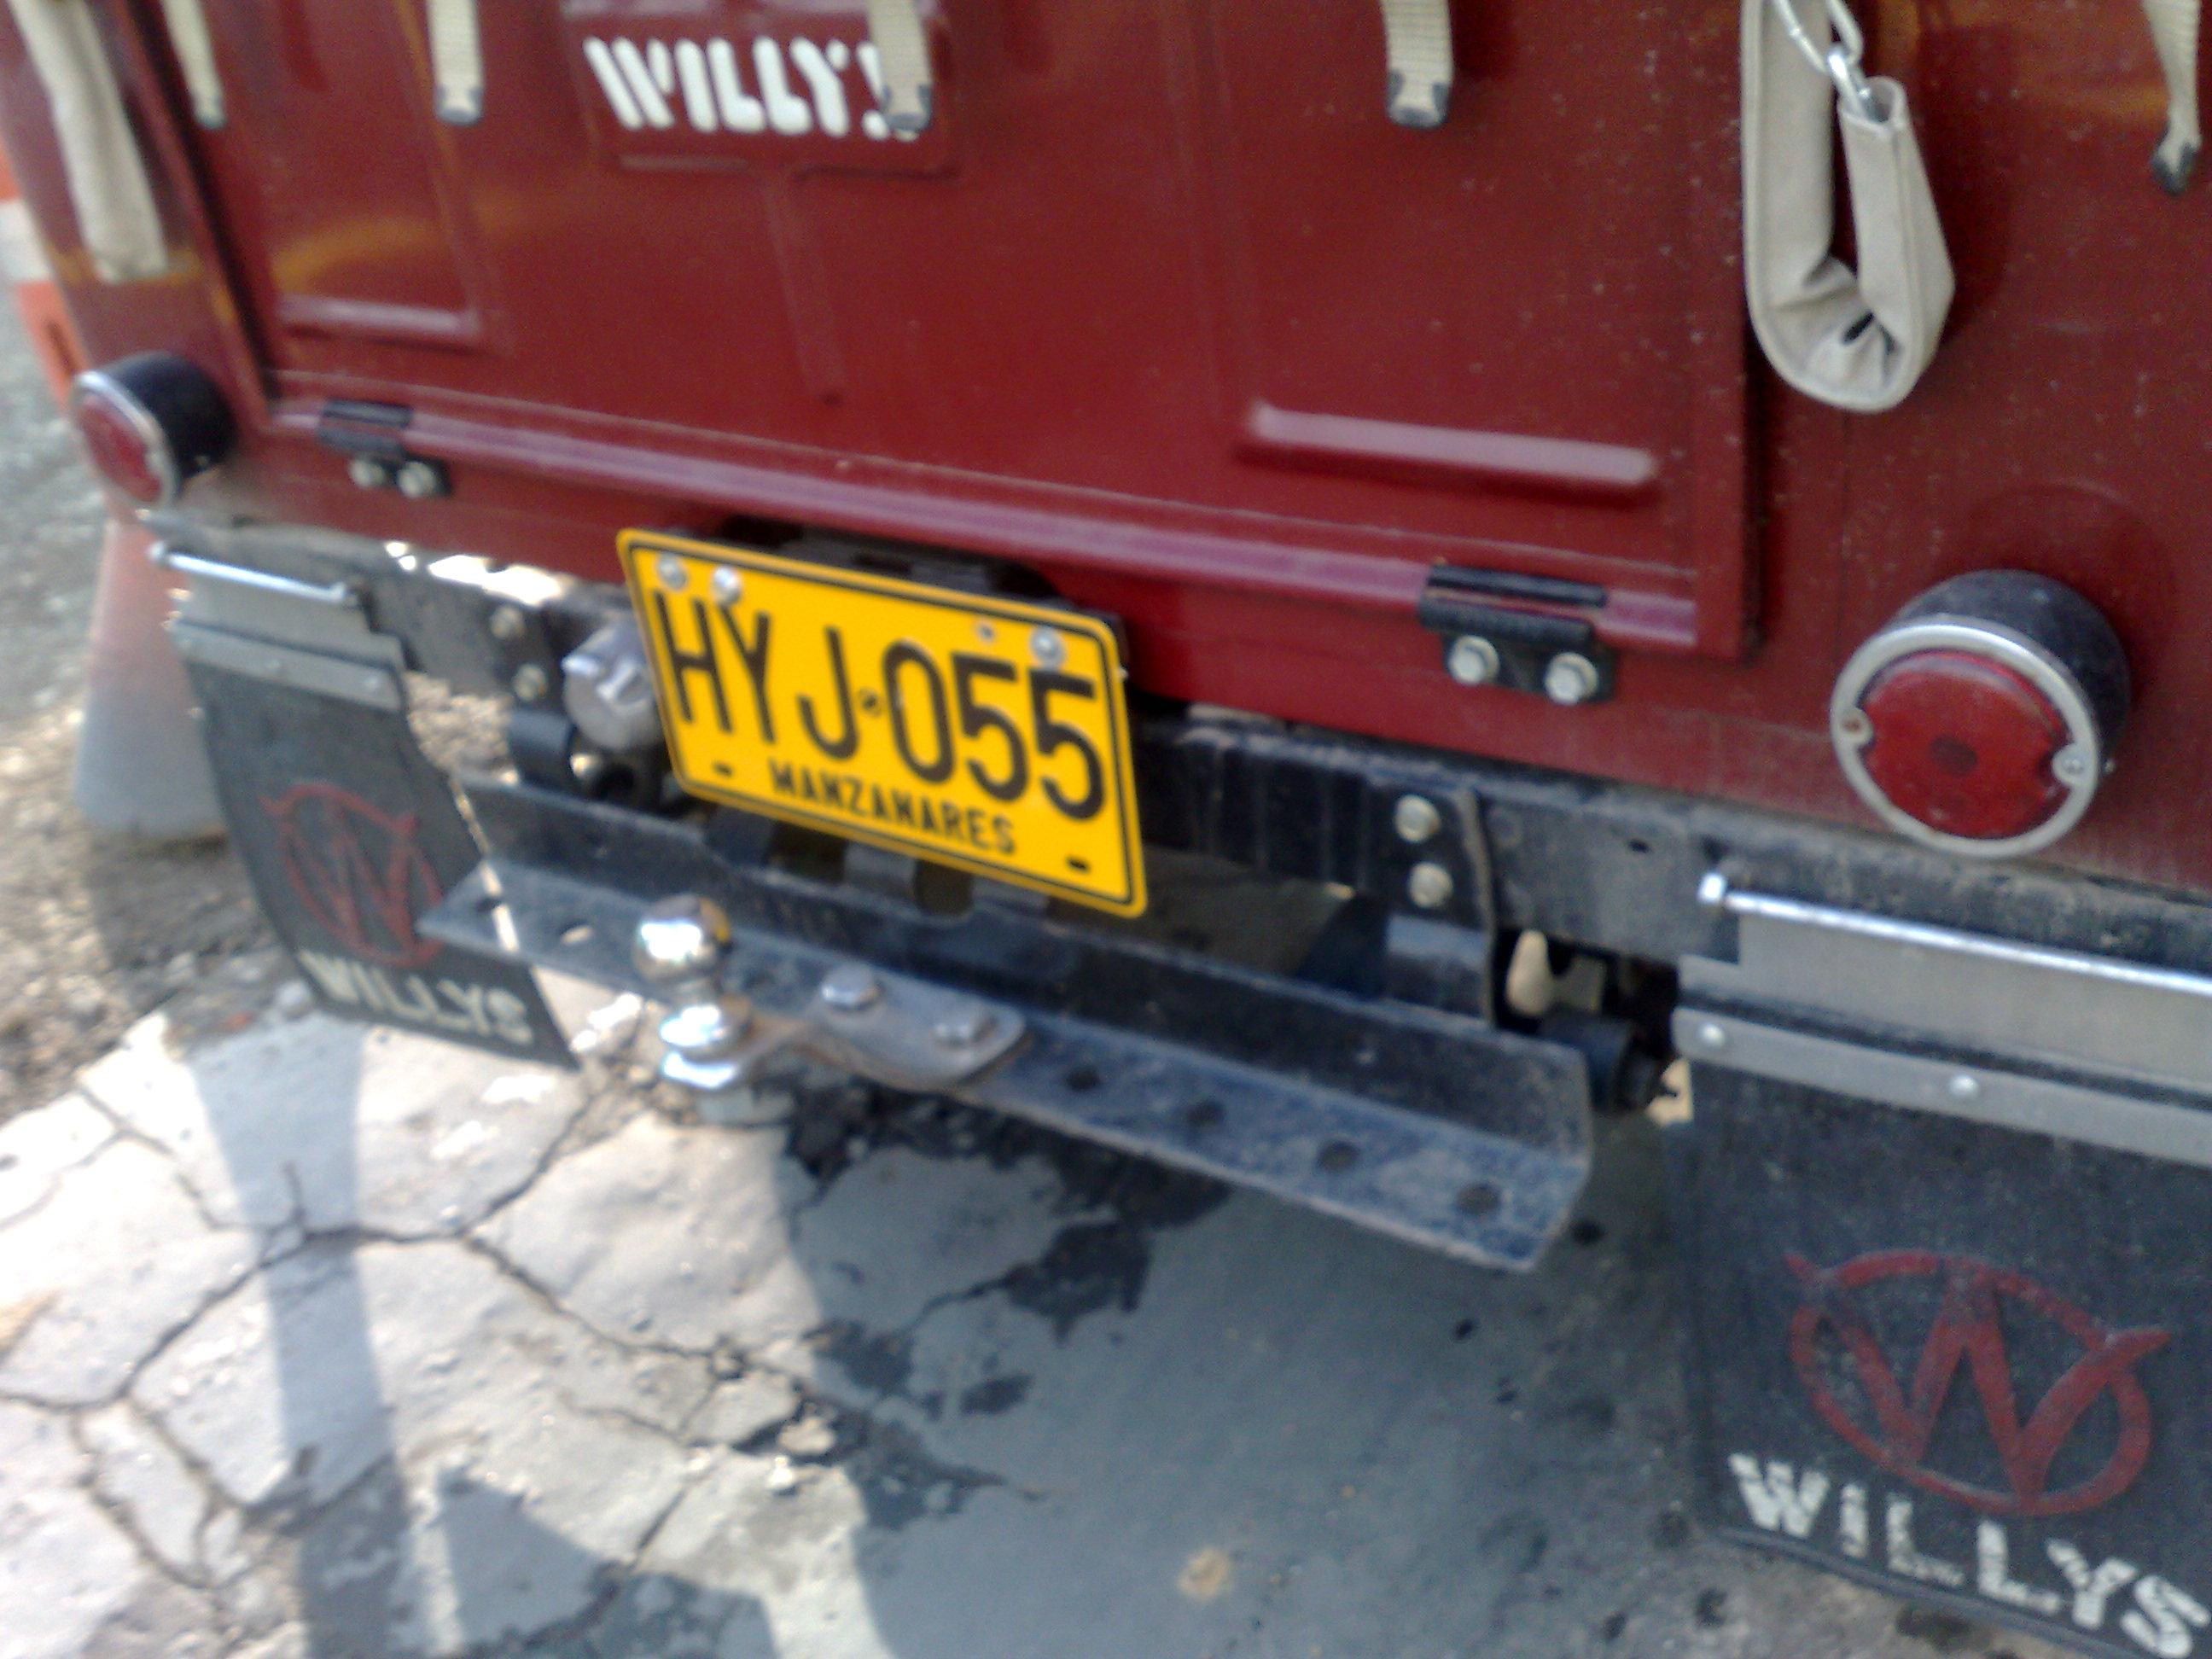placas: (604, 517, 1154, 927)
